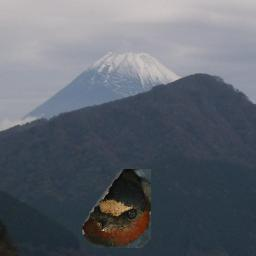Swallow: (82, 169, 151, 248)
